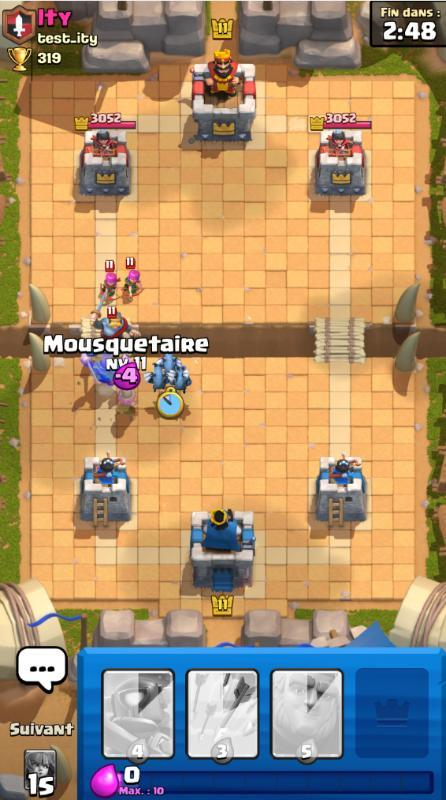archere: (122, 257, 144, 303), (101, 259, 121, 303)
chevalier: (89, 289, 141, 338), (80, 353, 131, 387)
gargouille: (143, 363, 174, 392), (169, 366, 192, 394), (157, 353, 182, 373)
mousquetaire: (116, 390, 139, 422)
